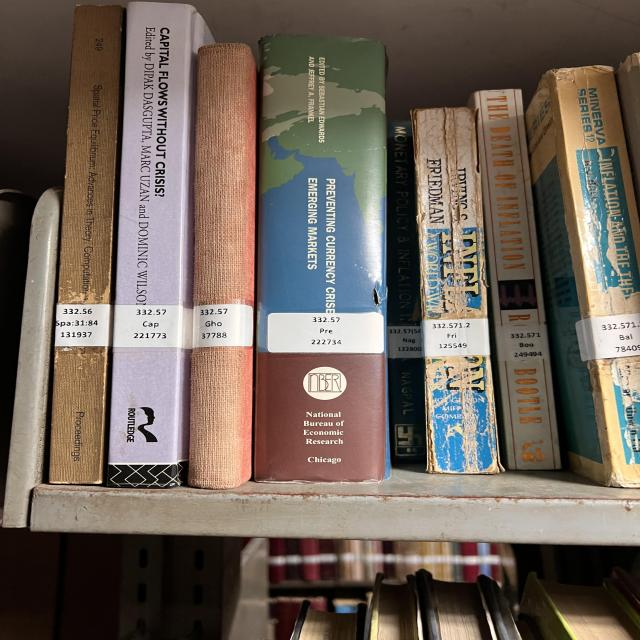Book: (255, 35, 387, 481), (107, 2, 213, 488), (525, 66, 640, 488), (48, 5, 123, 484), (468, 90, 562, 470), (413, 108, 502, 474), (188, 44, 257, 489), (387, 120, 427, 462)
Label: (267, 312, 385, 354), (113, 305, 193, 349), (575, 314, 640, 361), (193, 304, 253, 348), (422, 319, 490, 356), (55, 304, 112, 346), (495, 325, 548, 361), (387, 326, 423, 359)
